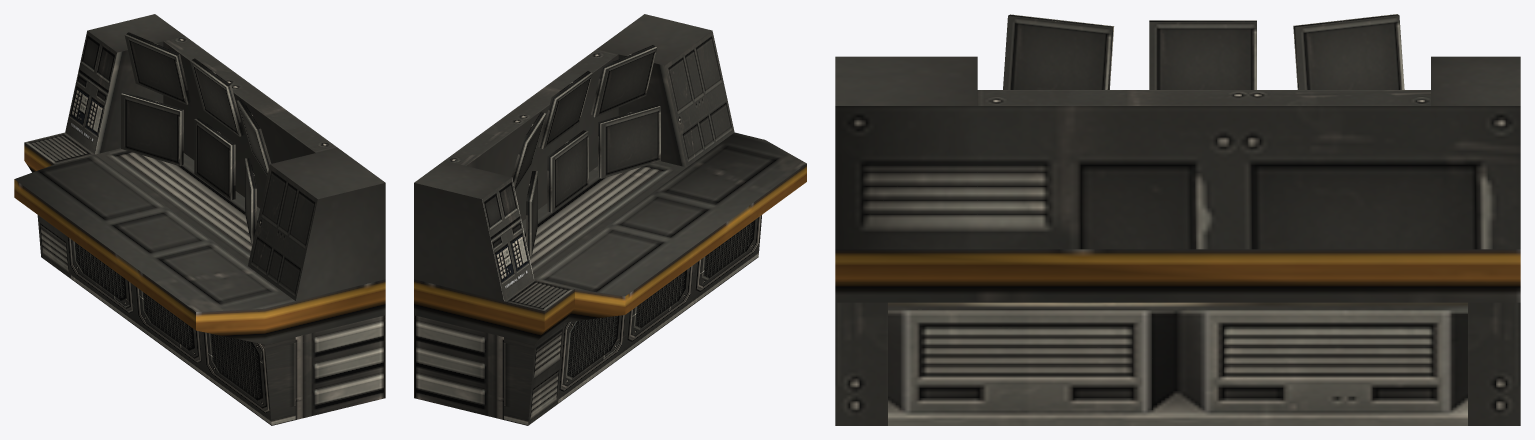
The model's file is mprw_terminal.FBX.
3 views of the same model, side by side, from view 1: azimuth 30°, elevation 25°; view 2: azimuth 150°, elevation 25°; view 3: azimuth 270°, elevation 25° (orthographic). The views are drawn at different scales.
Visible parts, largest first — view 1: mprw_terminal; view 2: mprw_terminal; view 3: mprw_terminal.
Boxes of the visible parts, <box> form: mprw_terminal: <box>14,14,385,425</box>; mprw_terminal: <box>414,14,806,425</box>; mprw_terminal: <box>835,14,1520,425</box>.
Bounding box in the file's own units: 158 × 212 × 358.
Materials: 1 (1 with a texture image).
